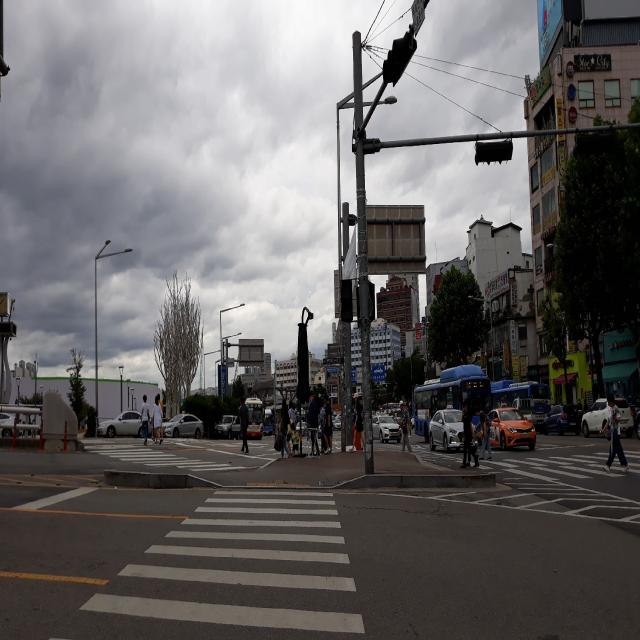횡단보도: (78, 488, 366, 639), (76, 432, 254, 476), (486, 452, 636, 482)
